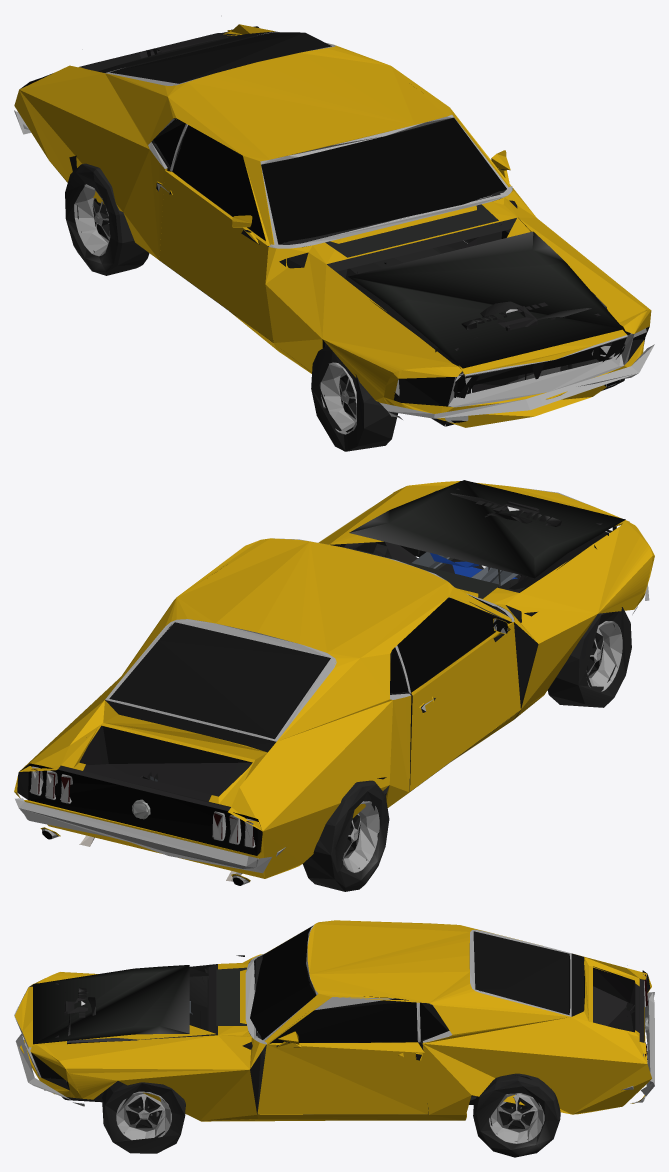
The model's file is sedan_mustang.glb.
3 views of the same model, one above another, from view 1: azimuth 30°, elevation 25°; view 2: azimuth 150°, elevation 25°; view 3: azimuth 270°, elevation 25° (orthographic). The views are drawn at different scales.
Parts seen in each view (by area): view 1: _M_Badge_Maxgroup1_Badge_0, _group1M_Glass_WindowRight_Max.002_Window_0, polySurface400__Ford_Mustang302LP_1970_Wheel2A_3D_3DWheel2A_, polySurface137__Ford_Mustang302LP_1970_Wheel2A_3D_3DWheel2A_, _group1M_Rim_Main_Max1, _group1M_Rim_Main_Max3; view 2: _M_Badge_Maxgroup1_Badge_0, _group1M_Glass_WindowRight_Max.002_Window_0, polySurface400__Ford_Mustang302LP_1970_Wheel2A_3D_3DWheel2A_, polySurface137__Ford_Mustang302LP_1970_Wheel2A_3D_3DWheel2A_, _group1M_Rim_Main_Max1, _group1M_Rim_Main_Max3; view 3: _M_Badge_Maxgroup1_Badge_0, _group1M_Glass_WindowRight_Max.002_Window_0, polySurface273__Ford_Mustang302LP_1970_Wheel2A_3D_3DWheel2A_, polySurface1__Ford_Mustang302LP_1970_Wheel2A_3D_3DWheel2A_Ma, _group1M_Rim_Main_Max, _group1M_Rim_Main_Max2.
Part boxes in pixels (x1,y1,x2,y2): _M_Badge_Maxgroup1_Badge_0: (14,24,654,427); _group1M_Glass_WindowRight_Max.002_Window_0: (31,58,506,244); polySurface400__Ford_Mustang302LP_1970_Wheel2A_3D_3DWheel2A_: (65,163,149,275); polySurface137__Ford_Mustang302LP_1970_Wheel2A_3D_3DWheel2A_: (311,345,398,451); _group1M_Rim_Main_Max1: (320,362,356,434); _group1M_Rim_Main_Max3: (74,184,110,256); _M_Badge_Maxgroup1_Badge_0: (14,480,654,885); _group1M_Glass_WindowRight_Max.002_Window_0: (31,595,500,845); polySurface400__Ford_Mustang302LP_1970_Wheel2A_3D_3DWheel2A_: (303,780,389,891); polySurface137__Ford_Mustang302LP_1970_Wheel2A_3D_3DWheel2A_: (547,607,631,707); _group1M_Rim_Main_Max1: (586,621,622,691); _group1M_Rim_Main_Max3: (342,801,379,872); _M_Badge_Maxgroup1_Badge_0: (14,920,654,1121); _group1M_Glass_WindowRight_Max.002_Window_0: (250,926,647,1059); polySurface273__Ford_Mustang302LP_1970_Wheel2A_3D_3DWheel2A_: (473,1073,560,1157); polySurface1__Ford_Mustang302LP_1970_Wheel2A_3D_3DWheel2A_Ma: (102,1081,185,1153); _group1M_Rim_Main_Max: (116,1091,171,1140); _group1M_Rim_Main_Max2: (489,1093,544,1143).
Bounding box in the file's own units: 0.0179 × 0.0126 × 0.0473.
